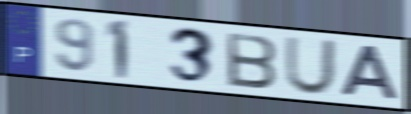1: (104, 18, 132, 81)
3: (166, 25, 219, 87)
9: (53, 17, 97, 74)
A: (338, 43, 402, 102)
B: (224, 30, 280, 91)
U: (283, 35, 339, 97)
